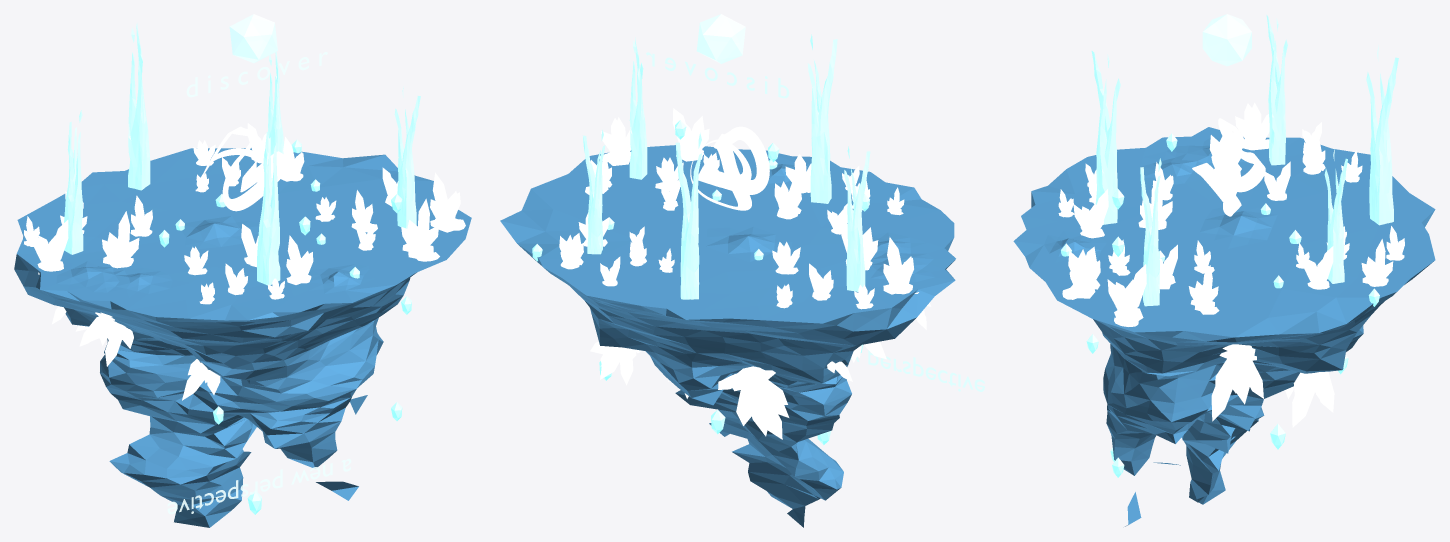
The model's file is asset.glb.
3 views of the same model, side by side, from view 1: azimuth 30°, elevation 25°; view 2: azimuth 150°, elevation 25°; view 3: azimuth 270°, elevation 25° (orthographic). The views are drawn at different scales.
Parts seen in each view (by area): view 1: Cone, Icosphere.004, Icosphere.013, Icosphere.001, Cube.001, BezierCurve, Cube.003, Icosphere.021, Cube.002, Cube.004, Icosphere.002, Icosphere.009 (+3 smaller); view 2: Cone, Icosphere.013, Icosphere.021, Icosphere.004, BezierCurve, Cube.001, Cube.003, Icosphere.001, Icosphere.002, Cube.004, Icosphere.009, Cube.002 (+4 smaller); view 3: Cone, Icosphere.004, Icosphere.020, Icosphere.013, Cube.003, Icosphere.001, BezierCurve, Cube.001, Icosphere.002, Icosphere.009, Cube.004, Cube.002 (+1 smaller).
Boxes of the visible parts, x1=… form: Cone: x1=14, y1=148, x2=471, y2=527; Icosphere.004: x1=315, y1=167, x2=465, y2=261; Icosphere.013: x1=24, y1=191, x2=152, y2=274; Icosphere.001: x1=184, y1=224, x2=313, y2=304; Cube.001: x1=257, y1=116, x2=280, y2=285; BezierCurve: x1=201, y1=126, x2=291, y2=211; Cube.003: x1=128, y1=23, x2=150, y2=190; Icosphere.021: x1=52, y1=306, x2=220, y2=400; Cube.002: x1=394, y1=86, x2=420, y2=228; Cube.004: x1=64, y1=110, x2=83, y2=254; Icosphere.002: x1=193, y1=123, x2=304, y2=192; Icosphere.009: x1=229, y1=14, x2=277, y2=63; Cone: x1=500, y1=145, x2=955, y2=527; Icosphere.013: x1=772, y1=220, x2=918, y2=309; Icosphere.021: x1=718, y1=303, x2=931, y2=439; Icosphere.004: x1=585, y1=108, x2=719, y2=210; BezierCurve: x1=690, y1=126, x2=769, y2=210; Cube.001: x1=807, y1=34, x2=837, y2=203; Cube.003: x1=675, y1=133, x2=701, y2=299; Icosphere.001: x1=774, y1=154, x2=904, y2=234; Icosphere.002: x1=559, y1=212, x2=674, y2=286; Cube.004: x1=844, y1=146, x2=870, y2=291; Icosphere.009: x1=696, y1=14, x2=745, y2=63; Cube.002: x1=629, y1=37, x2=647, y2=179; Cone: x1=1013, y1=127, x2=1435, y2=526; Icosphere.004: x1=1062, y1=239, x2=1219, y2=326; Icosphere.020: x1=1211, y1=344, x2=1334, y2=427; Icosphere.013: x1=1209, y1=102, x2=1362, y2=200; Cube.003: x1=1366, y1=45, x2=1398, y2=225; Icosphere.001: x1=1058, y1=162, x2=1173, y2=238; BezierCurve: x1=1192, y1=118, x2=1265, y2=216; Cube.001: x1=1091, y1=51, x2=1120, y2=224; Icosphere.002: x1=1296, y1=226, x2=1404, y2=289; Icosphere.009: x1=1202, y1=14, x2=1251, y2=66; Cube.004: x1=1266, y1=15, x2=1287, y2=165; Cube.002: x1=1140, y1=158, x2=1161, y2=306.
Size of the model in its own units: 56.29 by 64.56 by 47.63.
